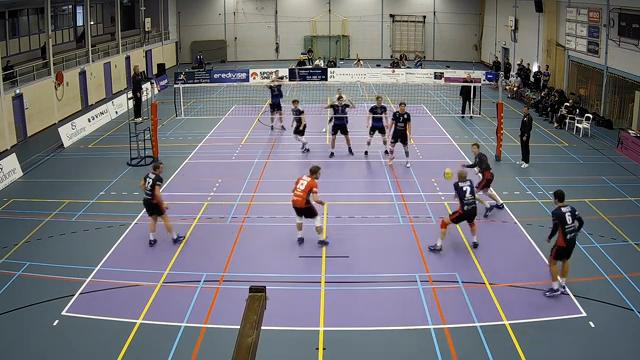Player: (544, 189, 583, 296), (140, 162, 183, 246), (462, 143, 503, 217), (292, 165, 328, 245), (325, 96, 354, 157), (364, 95, 388, 155), (388, 102, 410, 167), (291, 99, 309, 152), (268, 77, 285, 130), (333, 88, 348, 102)
Receive: (424, 164, 482, 255)
ball: (442, 168, 455, 182)
